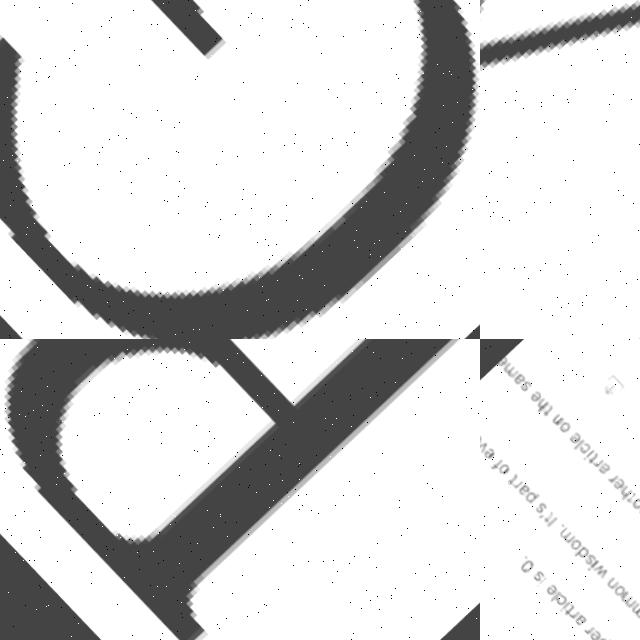0: (509, 557, 530, 575)
A: (507, 371, 525, 389), (563, 611, 582, 628), (590, 462, 609, 479), (510, 482, 527, 497), (636, 510, 640, 527)
B: (0, 339, 465, 640)
C: (571, 441, 589, 457), (545, 593, 562, 609)
D: (566, 546, 584, 562)
E: (522, 388, 540, 406), (604, 476, 623, 493), (537, 582, 554, 598), (562, 431, 579, 447), (492, 355, 508, 370), (577, 628, 594, 640), (480, 445, 492, 460)
F: (483, 457, 500, 472)
G: (0, 0, 480, 339)
H: (610, 486, 628, 503), (528, 398, 546, 414)
I: (578, 560, 594, 574), (576, 449, 592, 463), (527, 575, 542, 589), (549, 600, 563, 614), (539, 516, 553, 528)
L: (541, 590, 555, 602), (567, 439, 581, 450)
M: (610, 590, 631, 611), (496, 360, 517, 381), (551, 526, 572, 546), (620, 601, 640, 621)
N: (543, 412, 562, 429), (598, 577, 613, 591), (631, 504, 640, 519)
O: (551, 419, 570, 437), (621, 496, 640, 513), (603, 583, 621, 599), (490, 461, 507, 477), (560, 537, 577, 552), (631, 612, 640, 630)
P: (518, 489, 535, 504), (585, 634, 603, 640)
R: (599, 472, 615, 486), (504, 478, 519, 491), (574, 624, 588, 637), (559, 609, 573, 621), (586, 458, 599, 470)
S: (513, 378, 531, 394), (522, 569, 539, 584), (575, 553, 592, 568), (527, 500, 544, 515)
T: (554, 603, 570, 618), (500, 473, 516, 488), (580, 452, 596, 467), (617, 492, 633, 506), (535, 511, 550, 524), (536, 405, 551, 418)
V: (480, 439, 485, 455)
W: (583, 561, 604, 582)
X: (480, 0, 640, 339)
